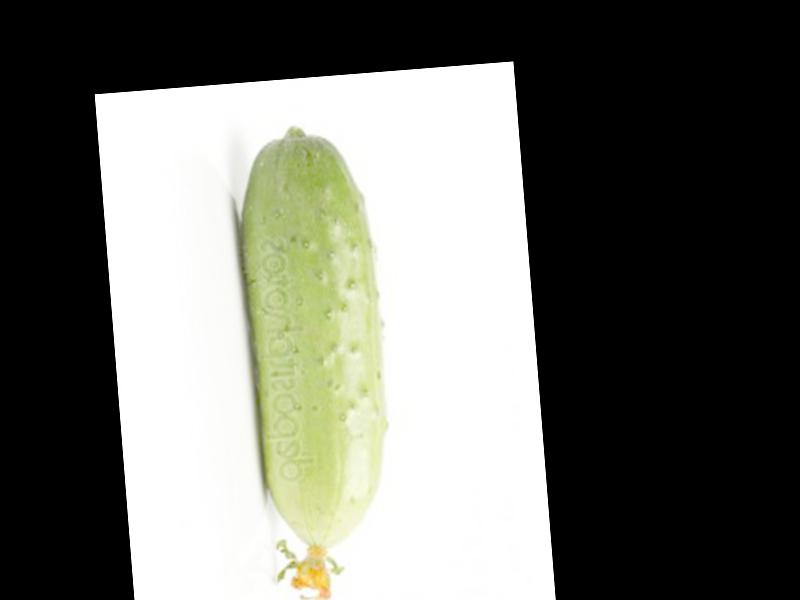Cucumber: (228, 119, 402, 600)
